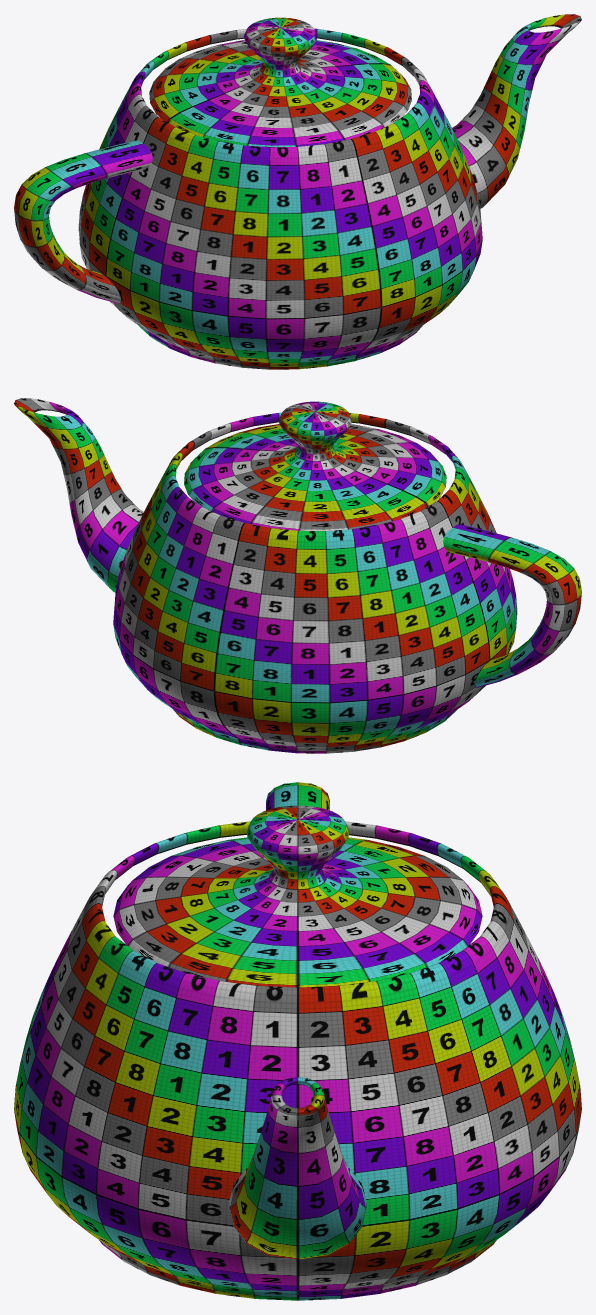
File: teapotRotate.glb
The picture shows the model from 3 angles, top to bottom: view 1: azimuth 30°, elevation 25°; view 2: azimuth 150°, elevation 25°; view 3: azimuth 270°, elevation 25°; orthographic projection. The views are drawn at different scales.
Parts seen in each view (by area): view 1: Teapot001; view 2: Teapot001; view 3: Teapot001.
Part boxes in pixels (box(x1,y1,x2,y2)): Teapot001: box(14, 14, 581, 369); Teapot001: box(14, 398, 581, 753); Teapot001: box(14, 782, 581, 1300).
Bounding box in the file's own units: 9.97 × 4.88 × 6.2.
Materials: 1 (1 with a texture image).
